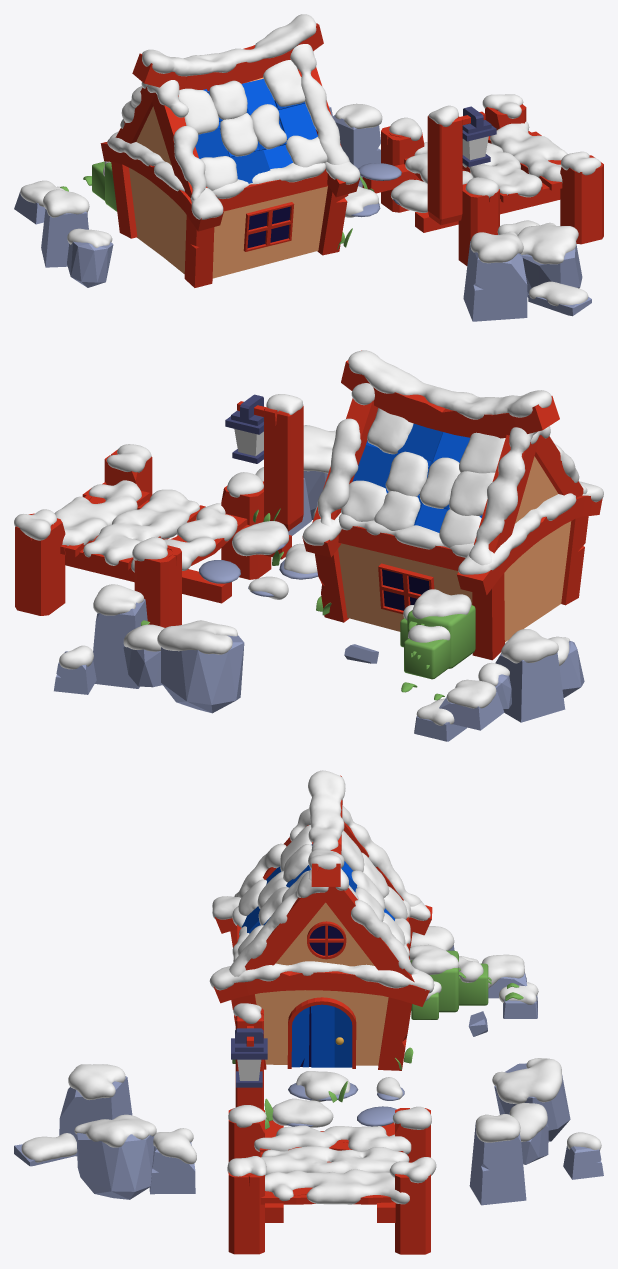
File: house.fbx
The picture shows the model from 3 angles, top to bottom: view 1: azimuth 30°, elevation 25°; view 2: azimuth 150°, elevation 25°; view 3: azimuth 270°, elevation 25°; orthographic projection. The views are drawn at different scales.
Parts seen in each view (by area): view 1: PAREDES_Cubo.001, Cubo.103_Cubo.001, SnowBall.026, Cubo.046_Cubo.001, Cubo.045_Cubo.001, Cubo.016, SnowBall.082, SnowBall.129, SnowBall.128, SnowBall.083, SnowBall.079, Cubo.044_Cubo.001 (+53 smaller); view 2: PAREDES_Cubo.001, Cubo.055_Cubo.001, Cubo.046_Cubo.001, Cubo.016, SnowBall.026, Cubo_Cubo.001, SnowBall.083, SnowBall.127, Cubo.056_Cubo.001, SnowBall.082, Cubo.043_Cubo.001, SnowBall.126 (+59 smaller); view 3: PAREDES_Cubo.001, puerta_Cilindro.001, Cubo.102_Cubo.001, SnowBall.082, Cubo.010, Cubo.052_Cubo.001, SnowBall.083, SnowBall.026, SnowBall.001, Cubo.045_Cubo.001, SnowBall.084, Cubo_Cubo.001 (+40 smaller).
Part boxes in pixels (x1,y1,x2,y2): PAREDES_Cubo.001: [129, 77, 327, 278]; Cubo.103_Cubo.001: [463, 241, 527, 321]; SnowBall.026: [142, 14, 316, 76]; Cubo.046_Cubo.001: [427, 115, 462, 225]; Cubo.045_Cubo.001: [560, 155, 603, 244]; Cubo.016: [132, 23, 323, 90]; SnowBall.082: [490, 121, 567, 182]; SnowBall.129: [290, 47, 349, 164]; SnowBall.128: [147, 80, 206, 200]; SnowBall.083: [462, 142, 542, 197]; SnowBall.079: [107, 136, 223, 219]; Cubo.044_Cubo.001: [458, 183, 499, 265]; PAREDES_Cubo.001: [338, 456, 571, 642]; Cubo.055_Cubo.001: [161, 635, 244, 713]; Cubo.046_Cubo.001: [264, 406, 303, 531]; Cubo.016: [341, 350, 559, 438]; SnowBall.026: [348, 350, 551, 419]; Cubo_Cubo.001: [15, 513, 65, 615]; SnowBall.083: [83, 489, 199, 565]; SnowBall.127: [469, 427, 537, 565]; Cubo.056_Cubo.001: [495, 652, 565, 722]; SnowBall.082: [54, 480, 141, 545]; Cubo.043_Cubo.001: [134, 545, 181, 627]; SnowBall.126: [317, 383, 374, 527]; PAREDES_Cubo.001: [255, 902, 388, 1065]; puerta_Cilindro.001: [287, 997, 356, 1068]; Cubo.102_Cubo.001: [76, 1133, 154, 1199]; SnowBall.082: [265, 1169, 409, 1204]; Cubo.010: [213, 971, 429, 1006]; Cubo.052_Cubo.001: [469, 1122, 526, 1205]; SnowBall.083: [261, 1146, 409, 1174]; SnowBall.026: [308, 770, 345, 869]; SnowBall.001: [209, 961, 434, 993]; Cubo.045_Cubo.001: [228, 1172, 264, 1254]; SnowBall.084: [254, 1125, 411, 1154]; Cubo_Cubo.001: [395, 1162, 430, 1254].
Size of the model in its own units: 529 by 270 by 527.
